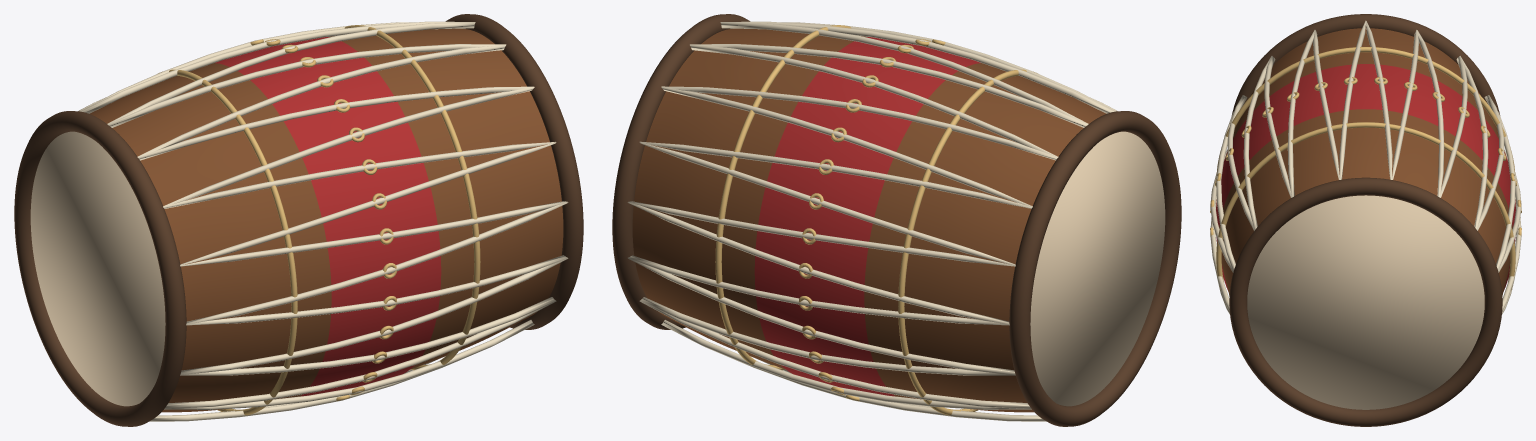
Rendered from divi-dhol-2.glb.
3 renders of one model, left to right at view 1: azimuth 30°, elevation 25°; view 2: azimuth 150°, elevation 25°; view 3: azimuth 270°, elevation 25°, orthographic. The views are drawn at different scales.
Parts seen in each view (by area): view 1: Dhol; view 2: Dhol; view 3: Dhol.
Part boxes in pixels (box(x1,y1,x2,y2)): Dhol: box(14, 14, 583, 426); Dhol: box(612, 14, 1181, 426); Dhol: box(1210, 14, 1521, 426).
Size of the model in its own units: 1.36 by 1.05 by 1.05.
